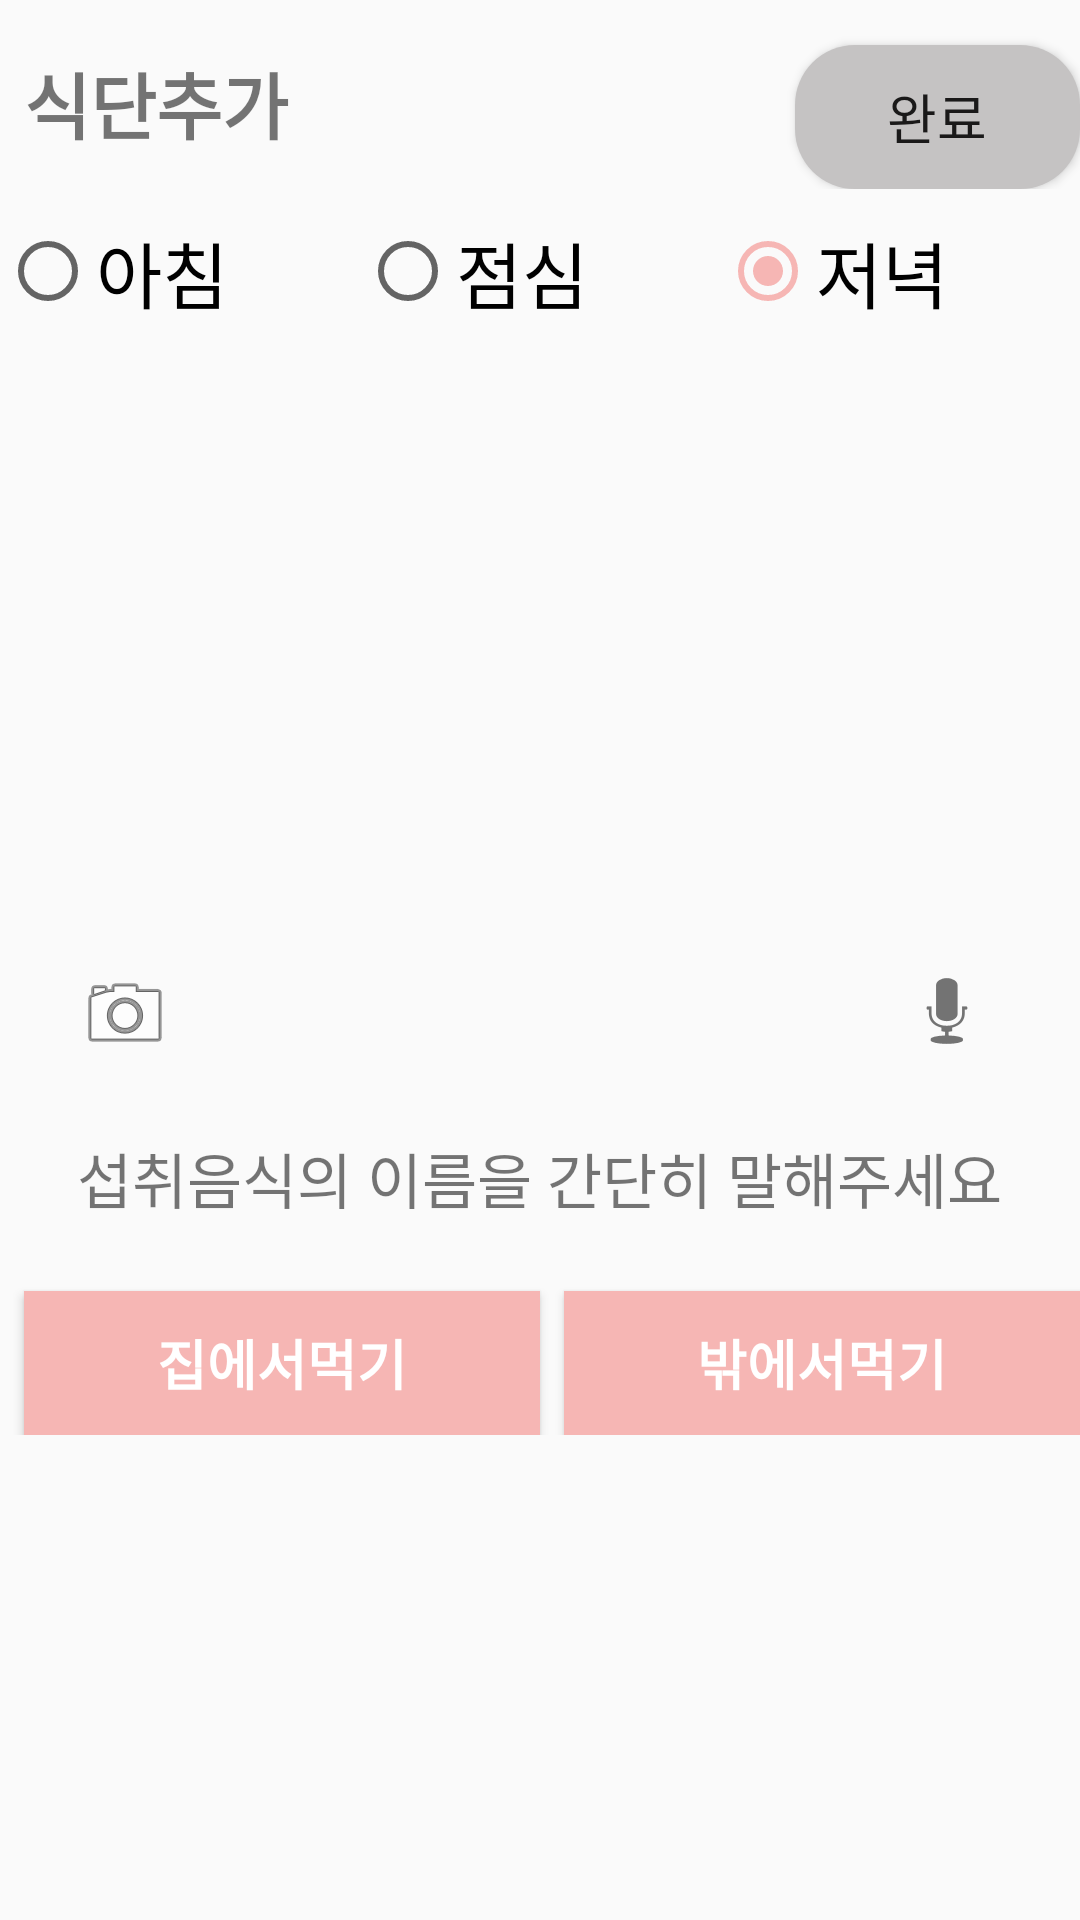

Screen size 1080×1920. Icon name, then its center in pixels as [x,y]:
camera: [125,1012]
speak now: [947,1011]
